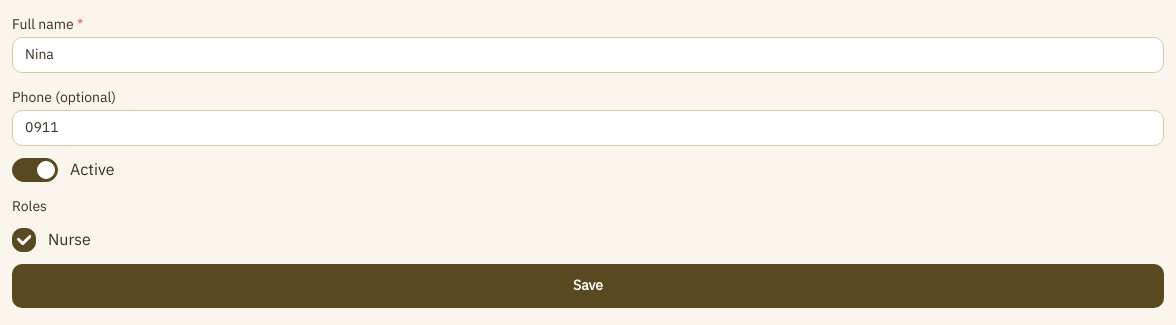
Scenario: UserForm (edit) › requires at least one role when roles are shown
Click the checkbox labelled "Nurse": (24, 240) [12,228,36,252]
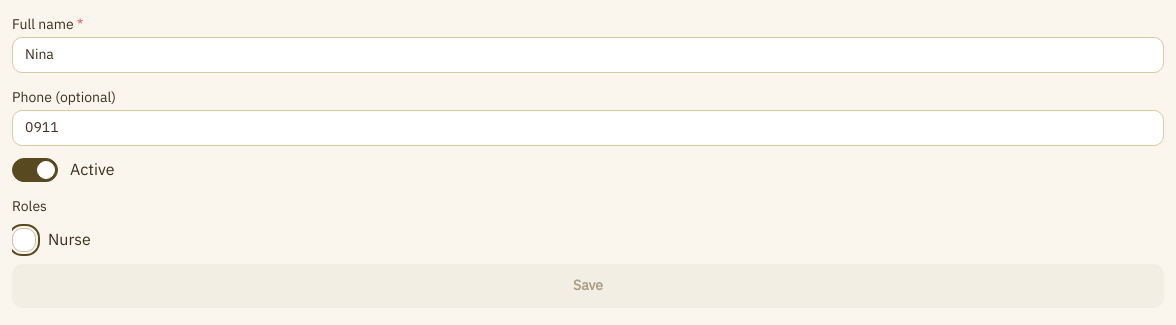
Now the button "Save" is disabled, box [12,264,1164,308]
